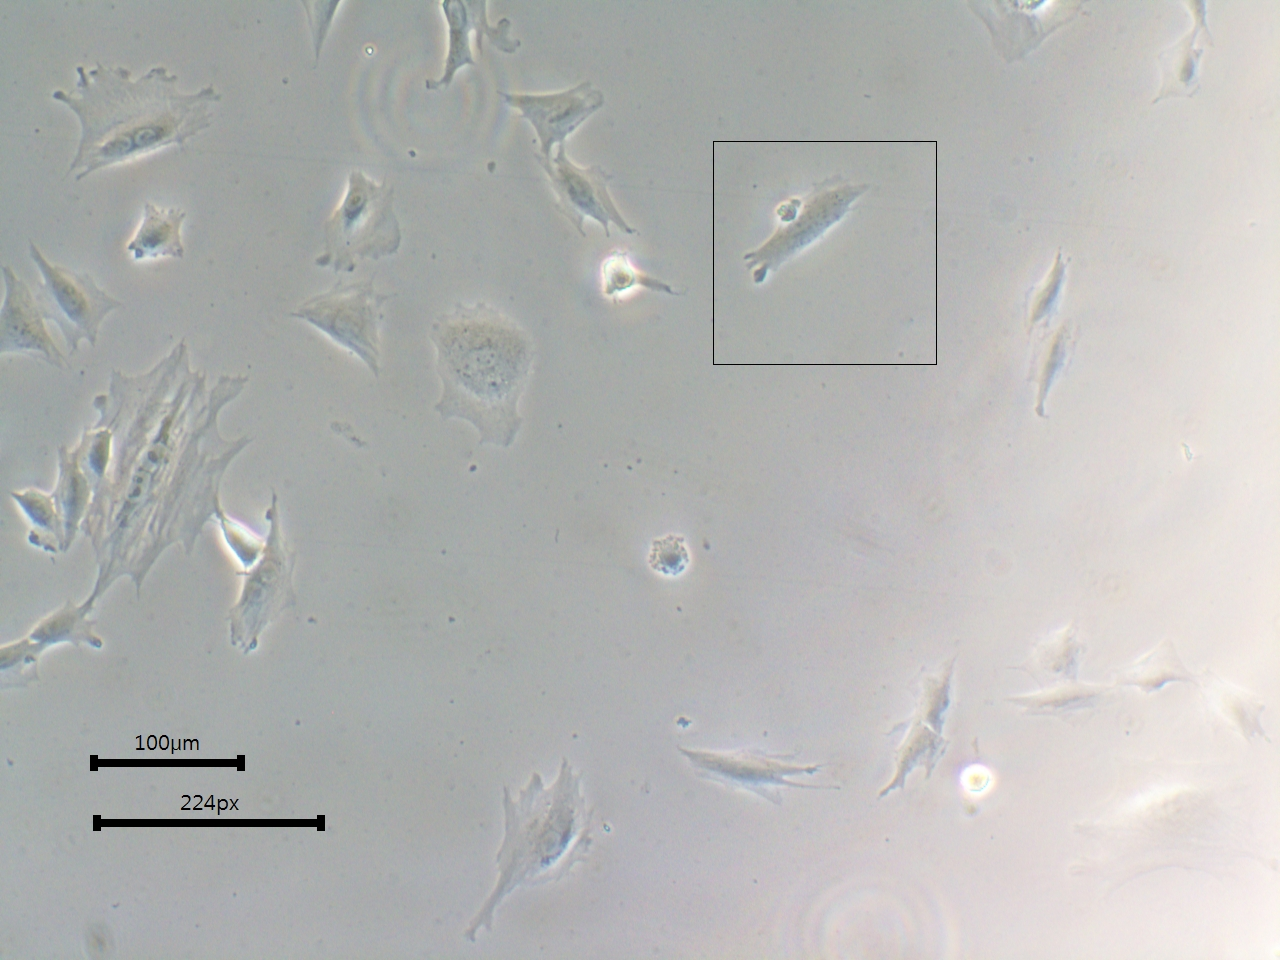dividing: (82, 336, 233, 588), (59, 50, 230, 188), (225, 497, 310, 661)
medium-polygonal: (747, 173, 867, 294), (670, 742, 831, 825), (287, 279, 394, 384)
medium-spread: (441, 755, 619, 958), (420, 297, 549, 462), (315, 169, 408, 277)
small-polygonal: (540, 155, 636, 245), (1023, 329, 1083, 425), (129, 197, 189, 271), (1023, 256, 1075, 332)
small-spread: (509, 77, 609, 155), (1151, 22, 1209, 111)
